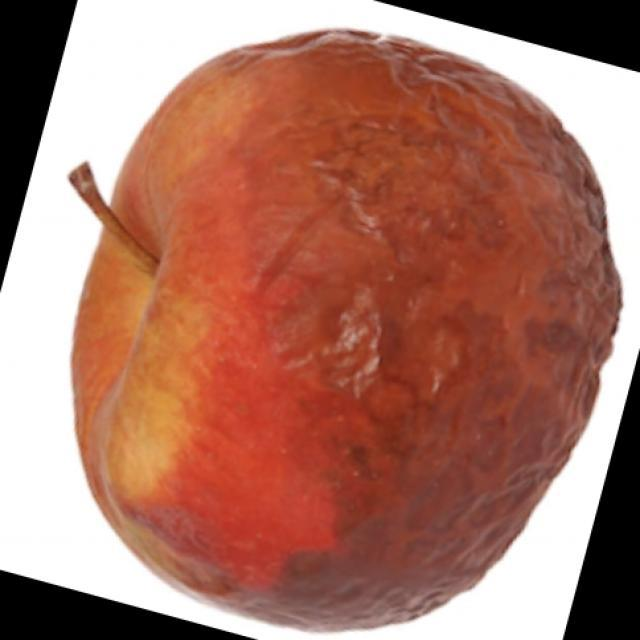Rotten: (112, 60, 628, 640)
